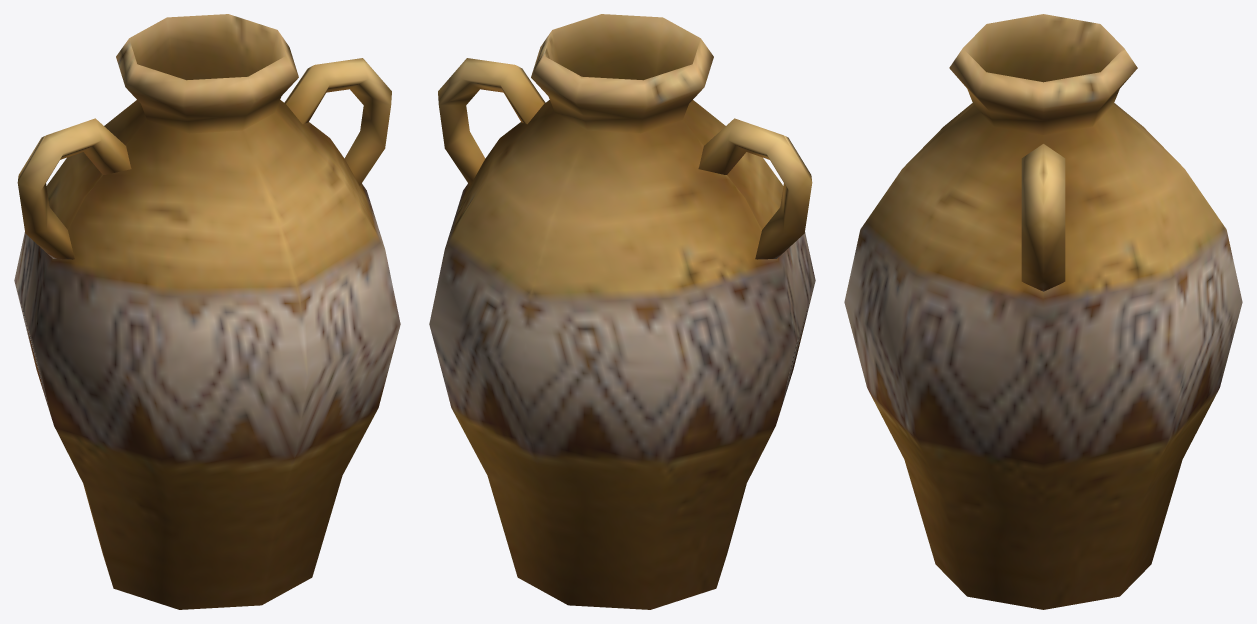
Rendered from zhucheng_guanzi03.FBX.
The picture shows the model from 3 angles, left to right: view 1: azimuth 30°, elevation 25°; view 2: azimuth 150°, elevation 25°; view 3: azimuth 270°, elevation 25°; orthographic projection.
Visible parts, largest first — view 1: zhucheng_guanzi03; view 2: zhucheng_guanzi03; view 3: zhucheng_guanzi03.
Boxes of the visible parts, x1,y1,x2,y2 form: zhucheng_guanzi03: (14,14,400,609); zhucheng_guanzi03: (429,14,815,609); zhucheng_guanzi03: (844,14,1242,609).
Bounding box in the file's own units: 16.75 × 15.5 × 22.16.
